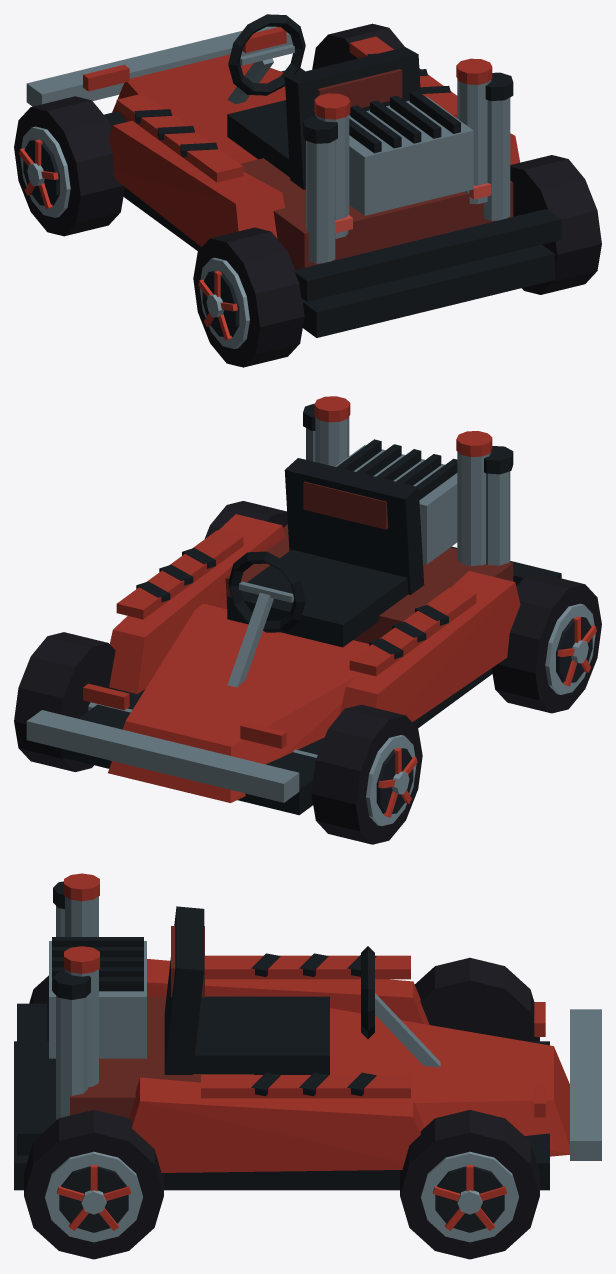
File: kart.glb
3 renders of one model, top to bottom at view 1: azimuth 30°, elevation 25°; view 2: azimuth 150°, elevation 25°; view 3: azimuth 270°, elevation 25°, orthographic. The views are drawn at different scales.
Parts seen in each view (by area): view 1: chassis, wheel-rear-left, wheel-front-left, wheel-rear-right, wheel-front-right; view 2: chassis, wheel-front-left, wheel-rear-left, wheel-front-right, wheel-rear-right; view 3: chassis, wheel-front-right, wheel-rear-right, wheel-front-left.
Boxes of the visible parts, bbox=[...] form: chassis: bbox=[26, 14, 561, 337]; wheel-rear-left: bbox=[193, 227, 304, 367]; wheel-front-left: bbox=[14, 96, 124, 236]; wheel-rear-right: bbox=[510, 155, 601, 294]; wheel-front-right: bbox=[312, 23, 404, 69]; chassis: bbox=[26, 396, 561, 815]; wheel-front-left: bbox=[311, 704, 422, 844]; wheel-rear-left: bbox=[491, 573, 601, 713]; wheel-front-right: bbox=[14, 632, 117, 772]; wheel-rear-right: bbox=[204, 501, 287, 538]; chassis: bbox=[14, 873, 601, 1190]; wheel-front-right: bbox=[400, 1110, 539, 1259]; wheel-rear-right: bbox=[24, 1110, 163, 1259]; wheel-front-left: bbox=[415, 957, 539, 1041].
Size of the model in its own units: 2.24 by 1.4 by 2.94.
